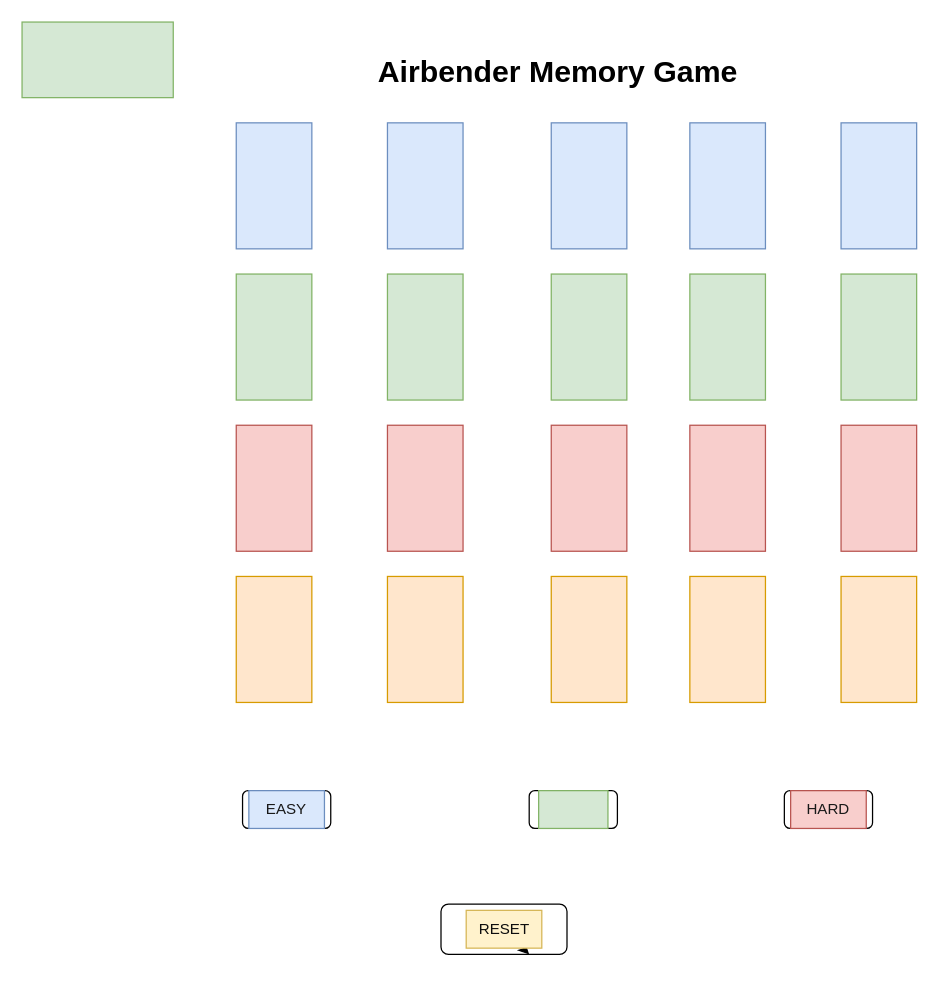
Image size: 939x987. Some labels were removed from this diagram. Here are the shapes that lost their labels. From the top down, the centre of each, then its label:
point 97,59: Counter
point 572,808: MEDIUM
